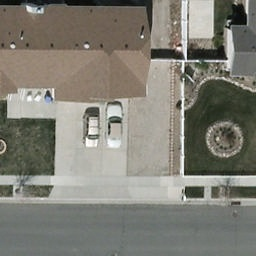car: (103, 101, 125, 151), (82, 115, 99, 147)
